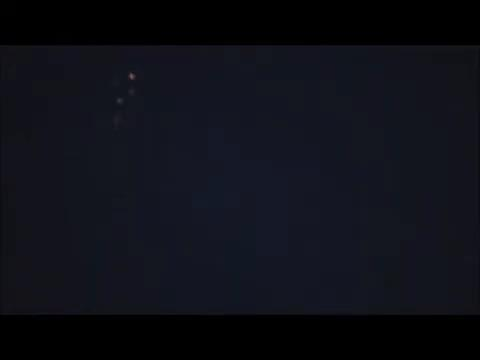Plane: (96, 59, 153, 124)
